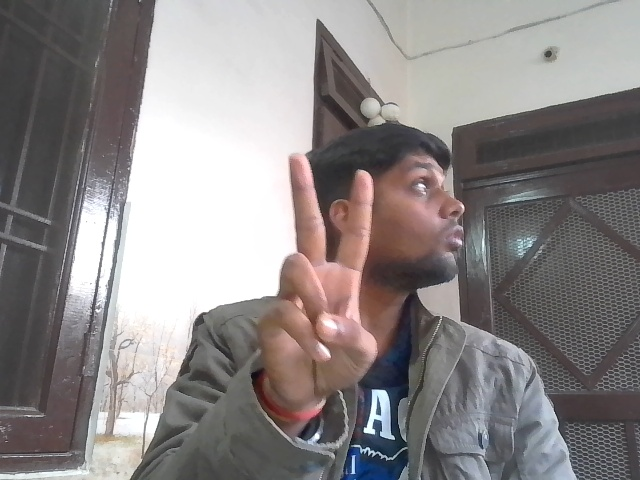Enjoy: (259, 149, 379, 401)
